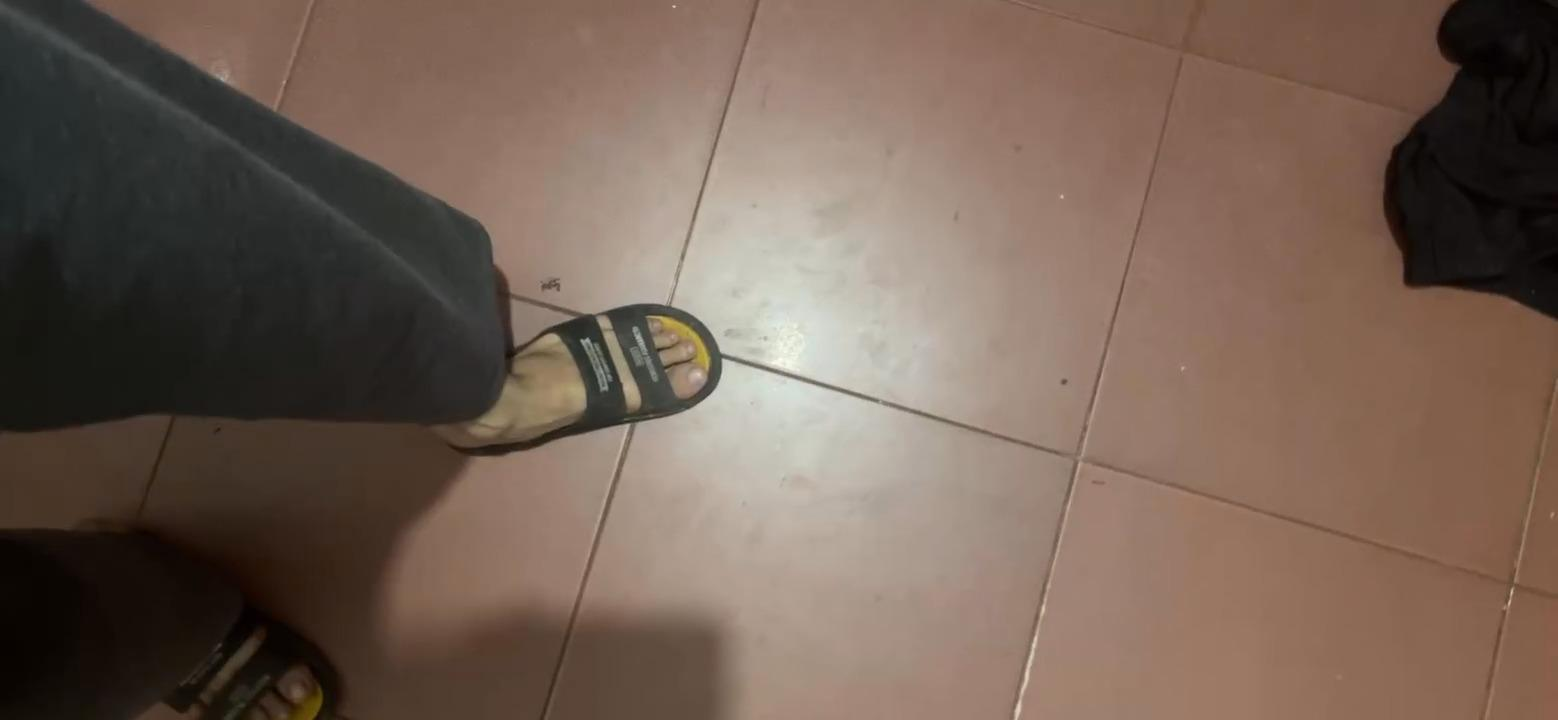no-boot: (453, 303, 719, 447), (105, 557, 335, 720)
